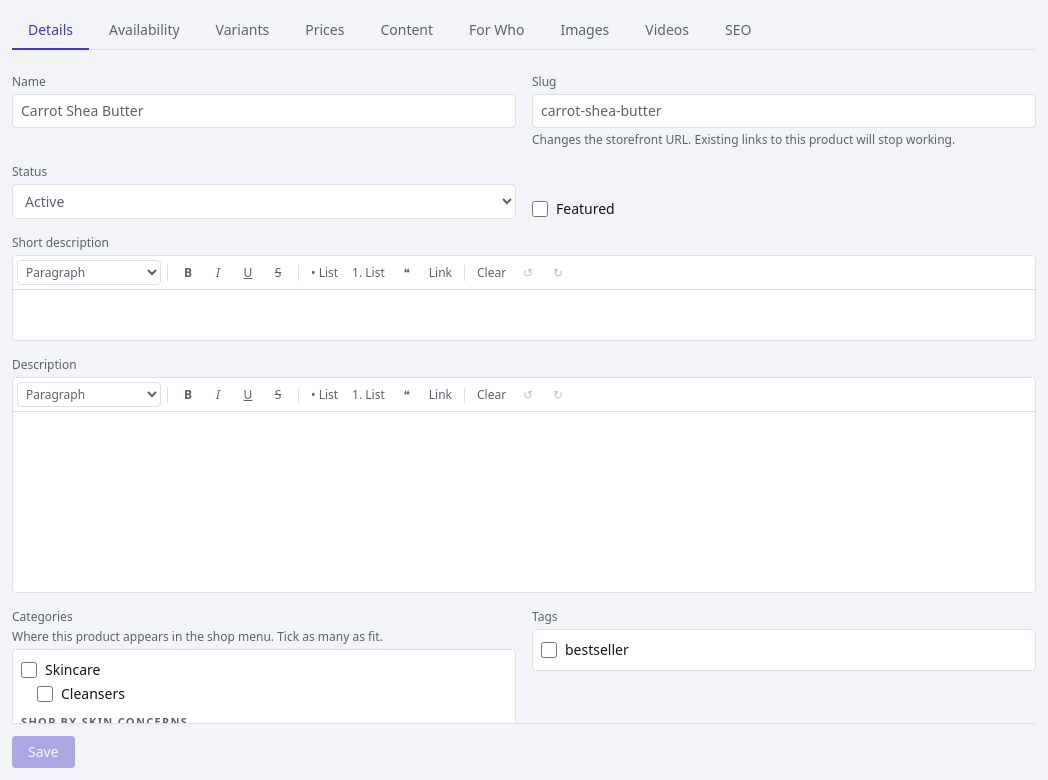
Test case: ProductEditor › puts a field error against its input and a banner error at the top
Step 1. Click the checkbox labelled "Featured" → coordinates (540, 209), box [532, 201, 548, 217]
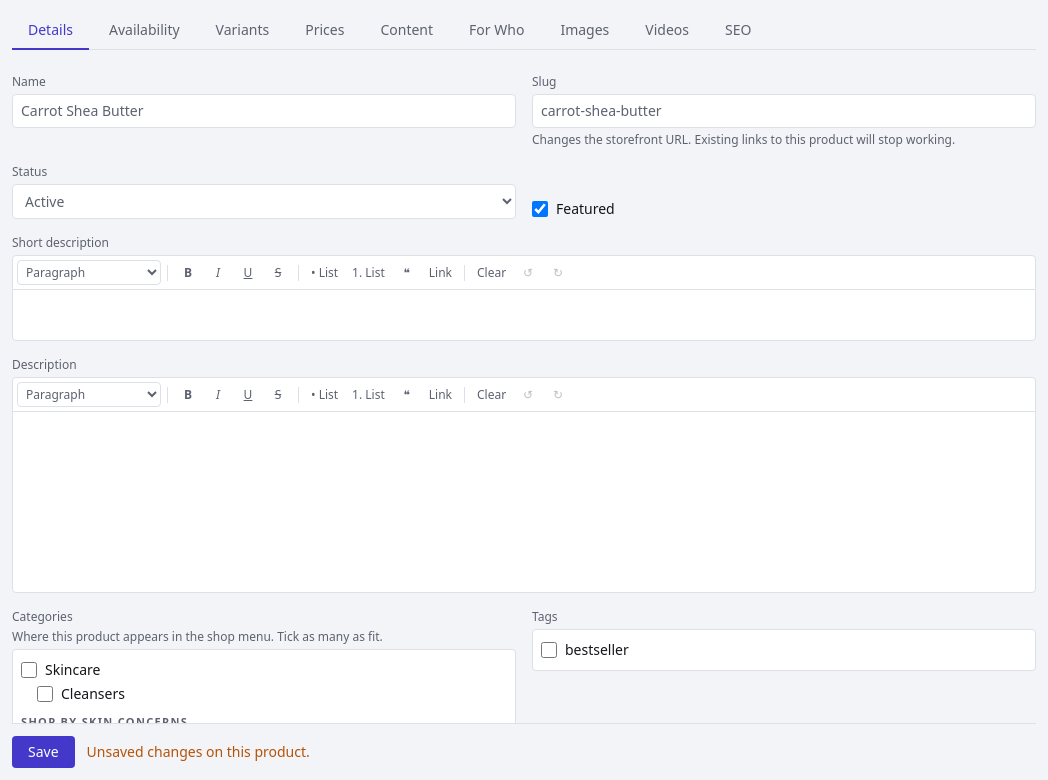
Step 2. Click the button "Save" → coordinates (43, 752), box [12, 736, 75, 768]
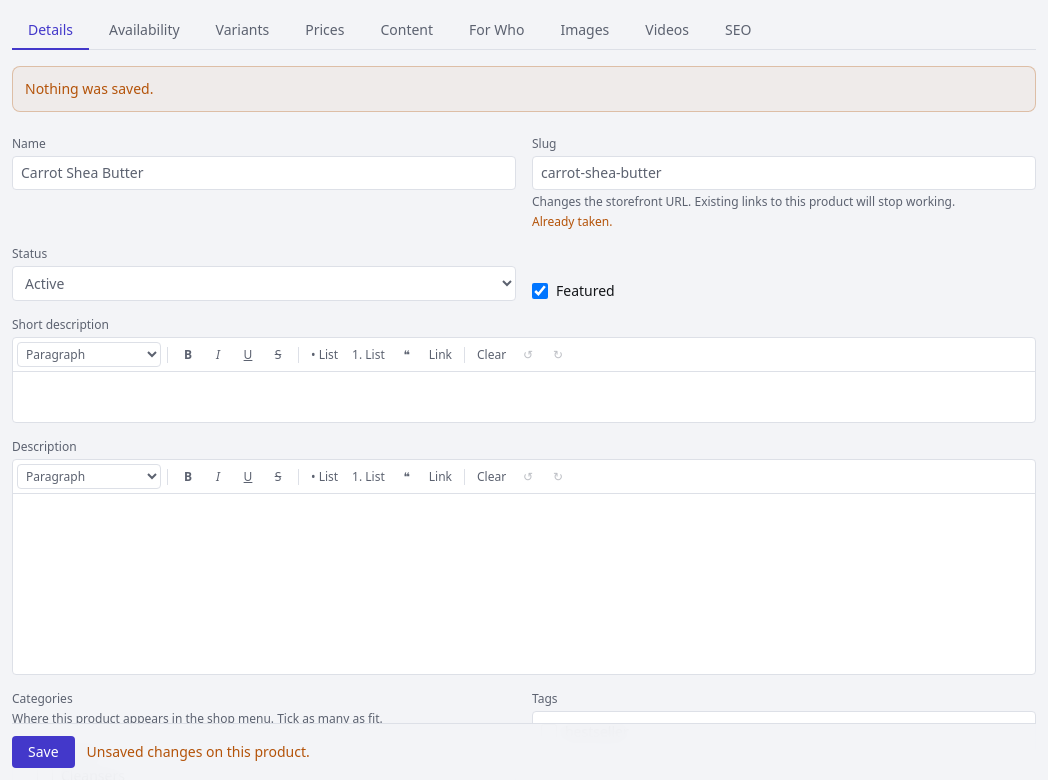
Expected: the text "Already taken." is shown, [532, 213, 612, 230]
Expected: the text "Nothing was saved." is shown, [12, 66, 1036, 112]
